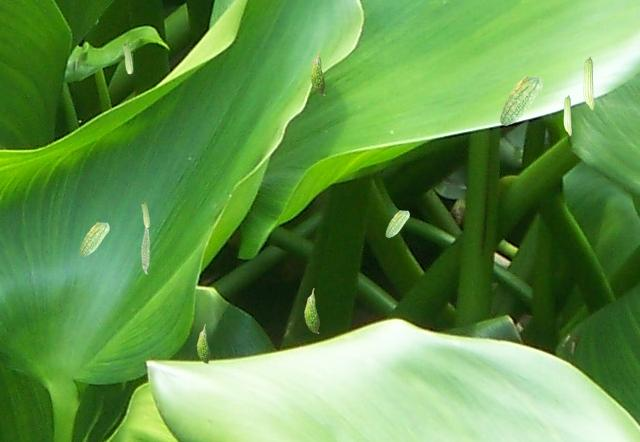ampalaya: (499, 75, 543, 126), (79, 221, 109, 256), (303, 287, 319, 333), (309, 49, 325, 95), (385, 209, 410, 238), (583, 56, 594, 110), (196, 324, 210, 364), (140, 228, 150, 274), (563, 94, 572, 136), (122, 43, 133, 74), (141, 201, 150, 228)
